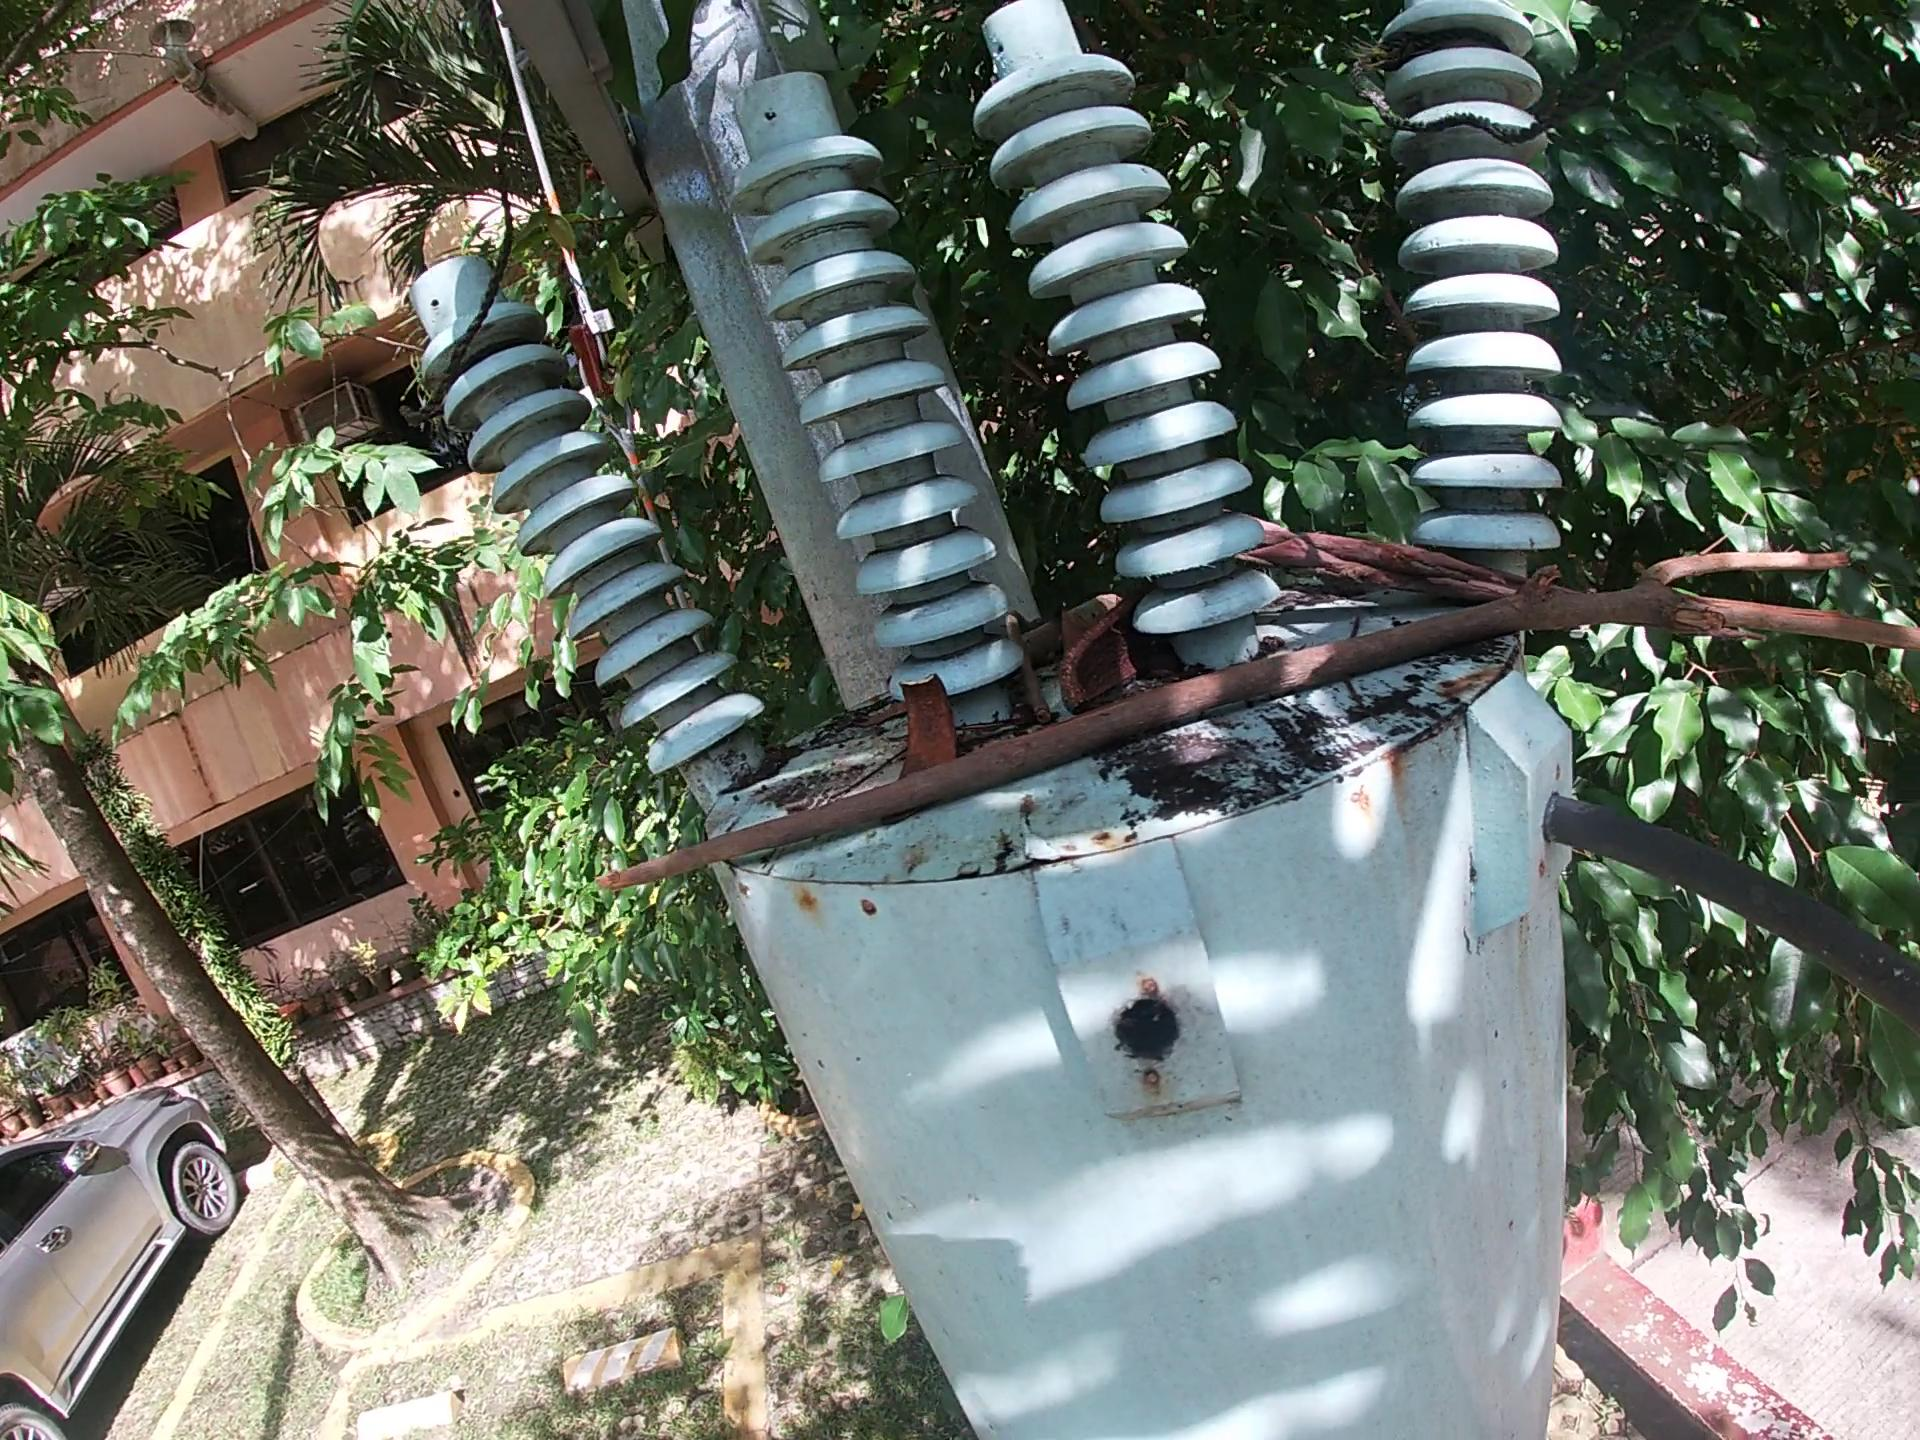mahogany fruit: (1055, 597, 1149, 732), (886, 672, 966, 782)
tree branch: (585, 540, 1920, 902), (1240, 510, 1748, 644), (1002, 608, 1058, 735)
